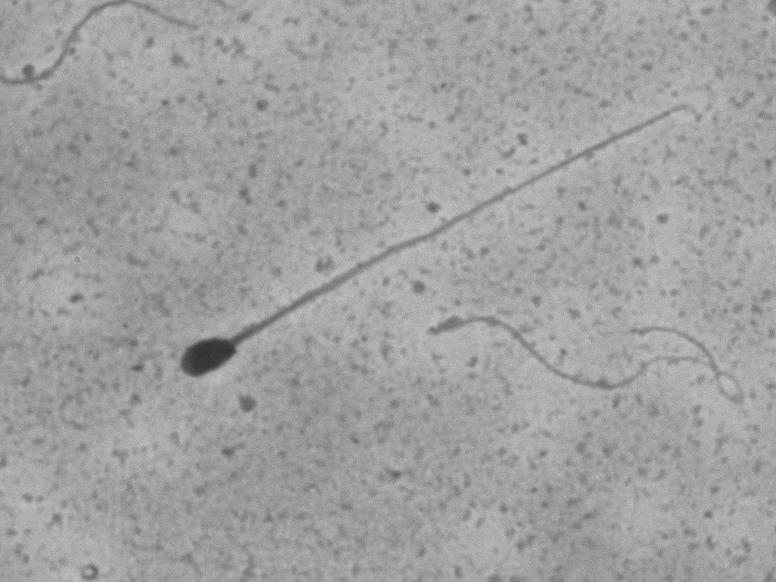Abnormal: (153, 81, 702, 401)
